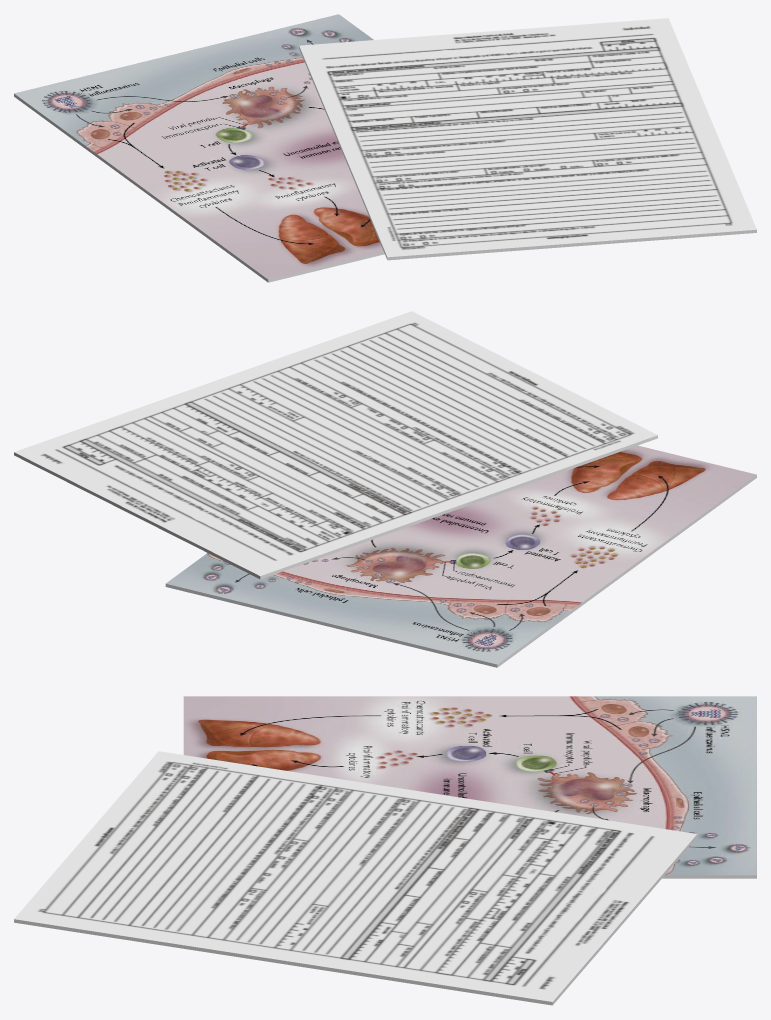
Rendered from Papers.FBX.
The picture shows the model from 3 angles, top to bottom: view 1: azimuth 30°, elevation 25°; view 2: azimuth 150°, elevation 25°; view 3: azimuth 270°, elevation 25°; orthographic projection. The views are drawn at different scales.
Parts seen in each view (by area): view 1: paper 1, paper 2; view 2: paper 1, paper 2; view 3: paper 1, paper 2.
Part boxes in pixels (box(x1,y1,x2,y2)): paper 1: box(299, 18, 756, 260); paper 2: box(14, 14, 384, 282); paper 1: box(14, 311, 657, 579); paper 2: box(165, 445, 756, 667); paper 1: box(14, 751, 697, 1005); paper 2: box(183, 696, 756, 878).
Bounding box in the file's own units: 340 × 344 × 4.19.
1 material, 1 textured.
